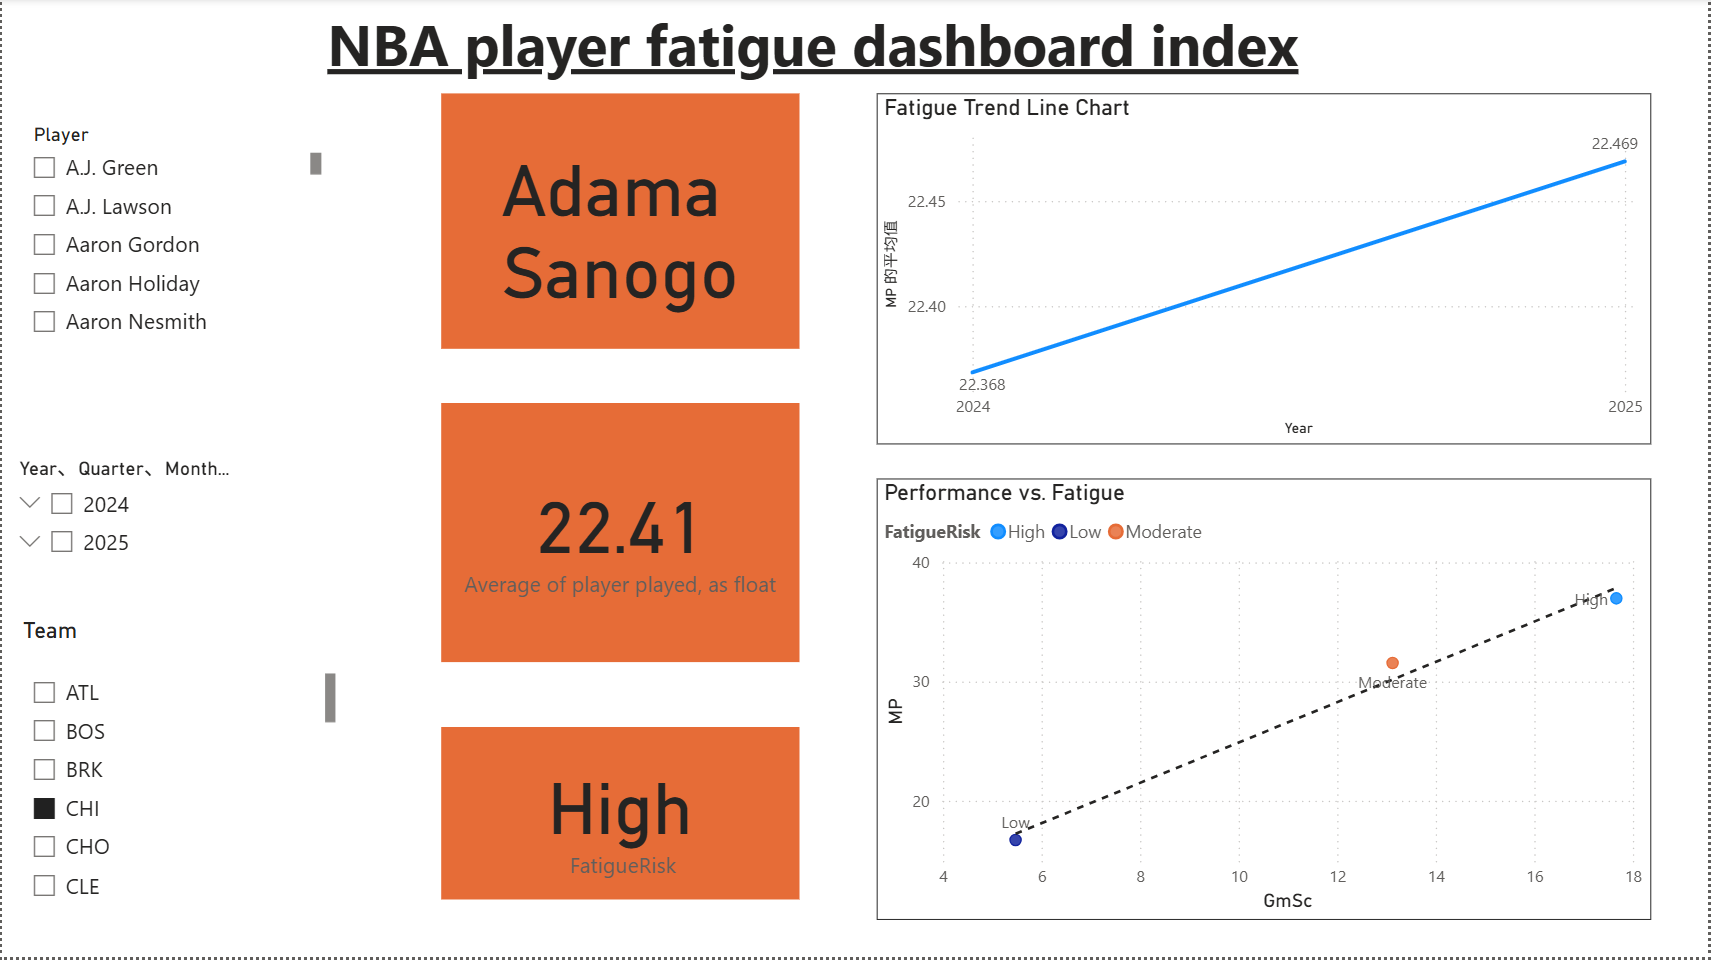

This screenshot's page, from the dashboard's own definition file:
{"tool":"powerbi","page":{"name":"Nba player fatigue ","canvas":[1280,720],"ordinal":1},"visuals":[{"type":"slicer","fields":{"Values":["NBA player fatigue.Player"]},"box":[10.8,89.2,233.7,174.3],"z":0},{"type":"card","fields":{"Values":["Min(NBA player fatigue.FatigueRisk)"]},"box":[329.6,547.1,268.8,129.7],"z":1000},{"type":"slicer","fields":{"Values":["NBA player fatigue.Data.Variation.Date Hierarchy.Year","NBA player fatigue.Data.Variation.Date Hierarchy.Quarter","NBA player fatigue.Data.Variation.Date Hierarchy.Month","NBA player fatigue.Data.Variation.Date Hierarchy.Day"]},"box":[0,335,197.2,114.8],"z":2000},{"type":"textbox","box":[155.3,0,906.4,116.2],"z":3000},{"type":"card","fields":{"Values":["Avg(NBA player fatigue.MP)"]},"box":[329.6,303.9,268.8,194.5],"z":4000},{"type":"card","fields":{"Values":["Min(NBA player performance.Player)"]},"box":[329.6,71.6,268.8,191.8],"z":5000},{"type":"lineChart","title":"Fatigue Trend Line Chart","fields":{"Category":["NBA player fatigue.Data.Variation.Date Hierarchy.Year","NBA player fatigue.Data.Variation.Date Hierarchy.Quarter","NBA player fatigue.Data.Variation.Date Hierarchy.Month","NBA player fatigue.Data.Variation.Date Hierarchy.Day"],"Y":["Avg(NBA player fatigue.MP)"]},"box":[656.5,71.6,580.8,263.4],"z":6000},{"type":"scatterChart","title":"Performance vs. Fatigue","fields":{"Series":["NBA player fatigue.FatigueRisk"],"X":["Avg(NBA player fatigue.GmSc)"],"Y":["Avg(NBA player fatigue.MP)"]},"box":[656.5,360.7,580.8,330.9],"z":7000},{"type":"slicer","title":"Team","fields":{"Values":["database_24_25 (2).Tm"]},"box":[10.8,464.7,244.5,226.9],"z":8000}]}

Visuals, with their boxes in screenshot pixels (x1, y1, x2, y2), scaled from the page's 1280x720 canvas onto the 1711x965 screenshot:
slicer - NBA player fatigue.Player: [left=14, top=120, right=327, bottom=353]
card - Min(NBA player fatigue.FatigueRisk): [left=441, top=733, right=800, bottom=907]
slicer - NBA player fatigue.Data.Variation.Date Hierarchy.Year x NBA player fatigue.Data.Variation.Date Hierarchy.Quarter: [left=0, top=449, right=264, bottom=603]
textbox: [left=208, top=0, right=1419, bottom=156]
card - Avg(NBA player fatigue.MP): [left=441, top=407, right=800, bottom=668]
card - Min(NBA player performance.Player): [left=441, top=96, right=800, bottom=353]
"Fatigue Trend Line Chart" lineChart: [left=878, top=96, right=1654, bottom=449]
"Performance vs. Fatigue" scatterChart: [left=878, top=483, right=1654, bottom=927]
"Team" slicer: [left=14, top=623, right=341, bottom=927]
